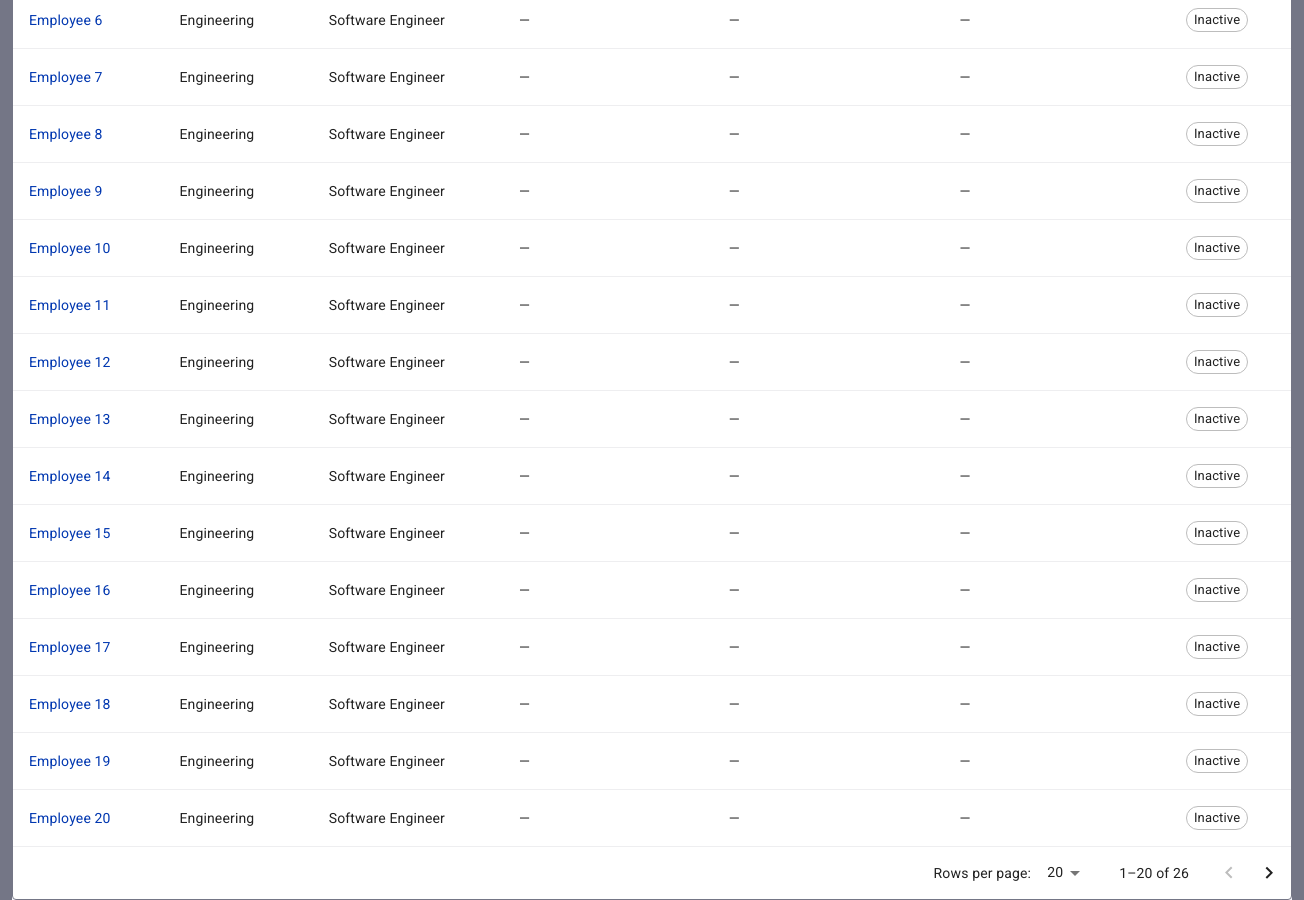
Scenario: Home employee dashboard › requests the next page when the user advances pagination
This screenshot has width=1304, height=900.
(page scrolled)
Click the button named "Go to next page" at coordinates (1269, 873), box [1249,853,1289,893]
(page scrolled)
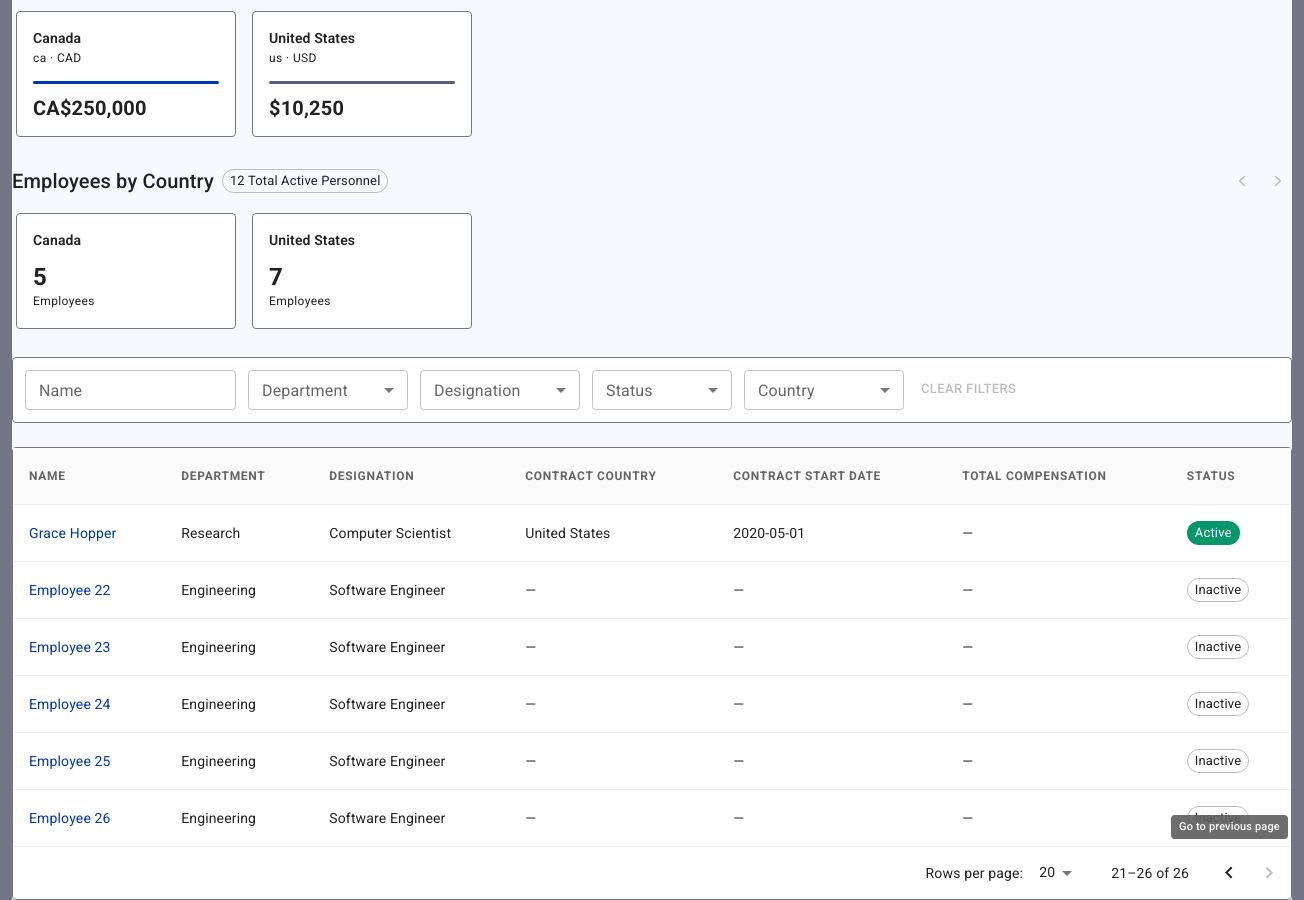
Result: the row "Grace Hopper" is shown at [13,504,1291,561]
